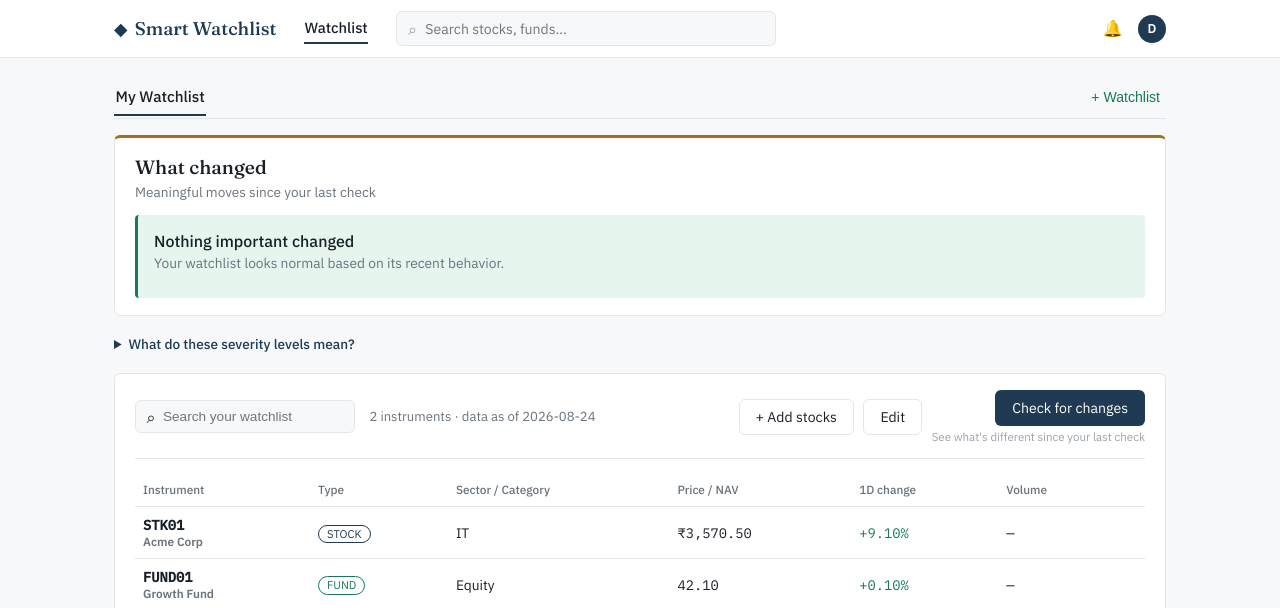
App — stale watchlist recovery (Issue 3) › does not re-sync the watchlist list for a non-404 add failure
Expected: the text "STK01" is shown, [143,516,184,534]
Click the button "+ Add stocks" at (796, 417), box [739,399,854,435]
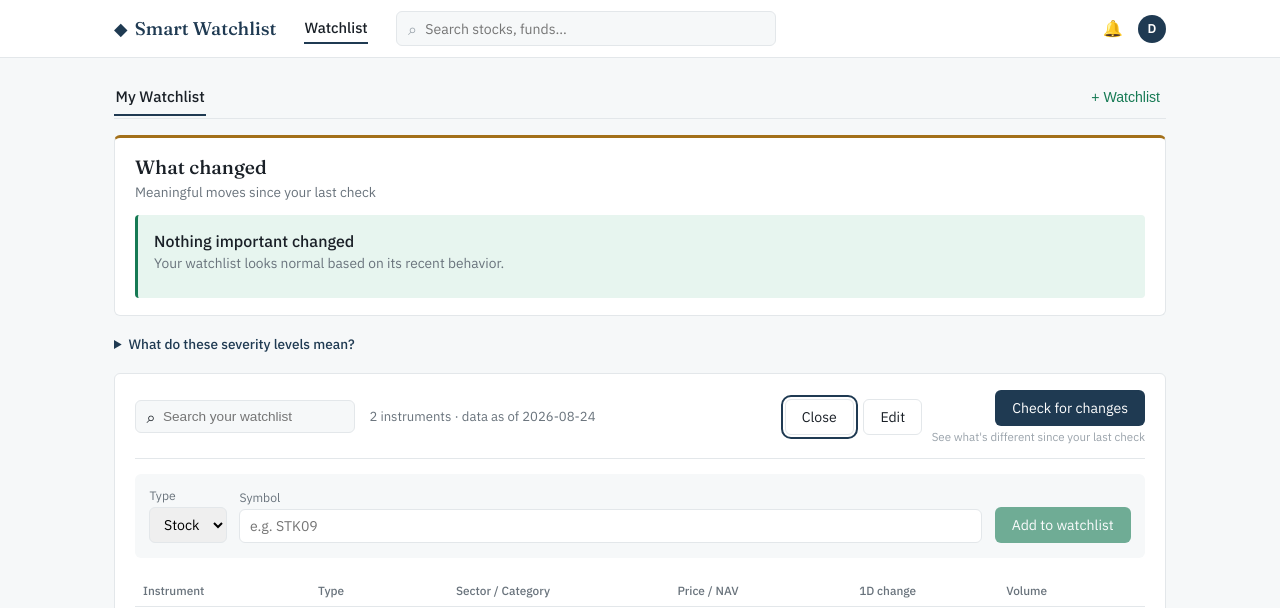
Type "stk09" into the field labelled "Symbol" at (611, 526), box [239,509,982,543]
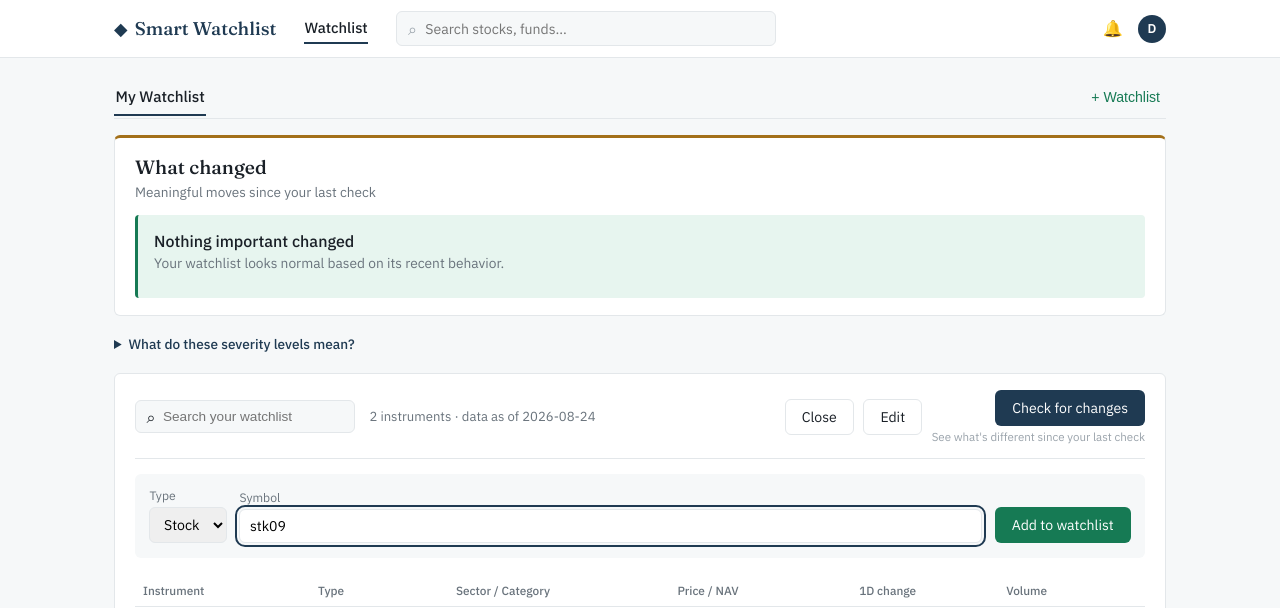
Click the button "Add to watchlist" at (1063, 525), box [995,507,1131,543]
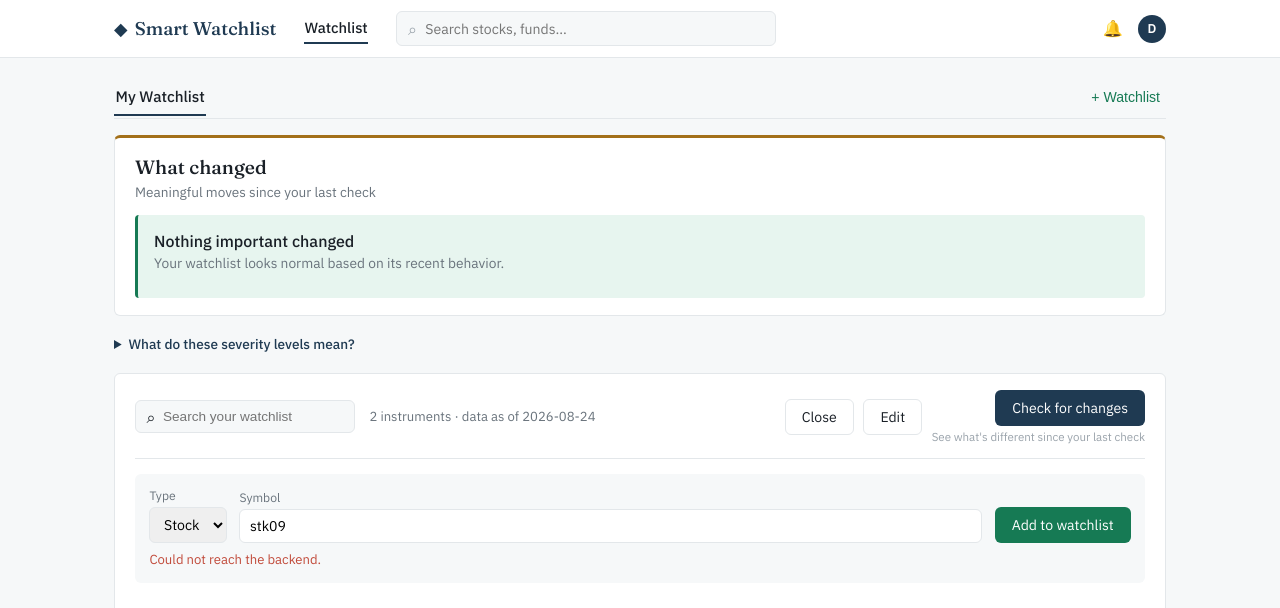
Expected: the text "Could not reach the backend." is shown, [149,551,321,568]
